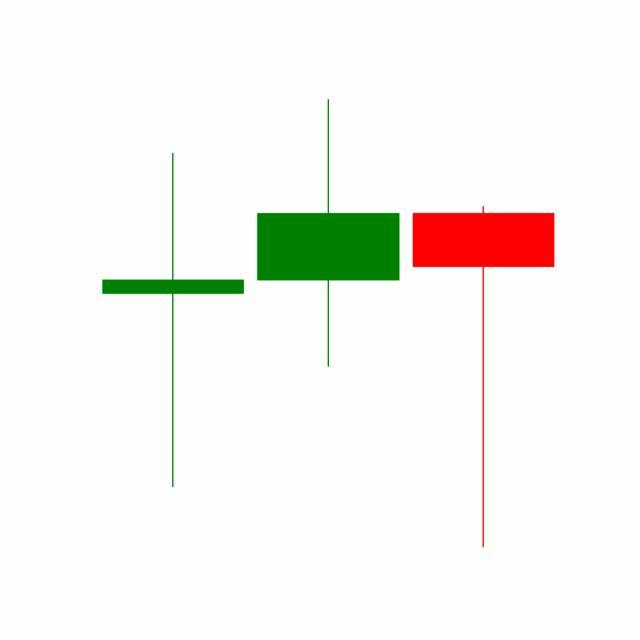Hammer: (406, 203, 562, 552)
